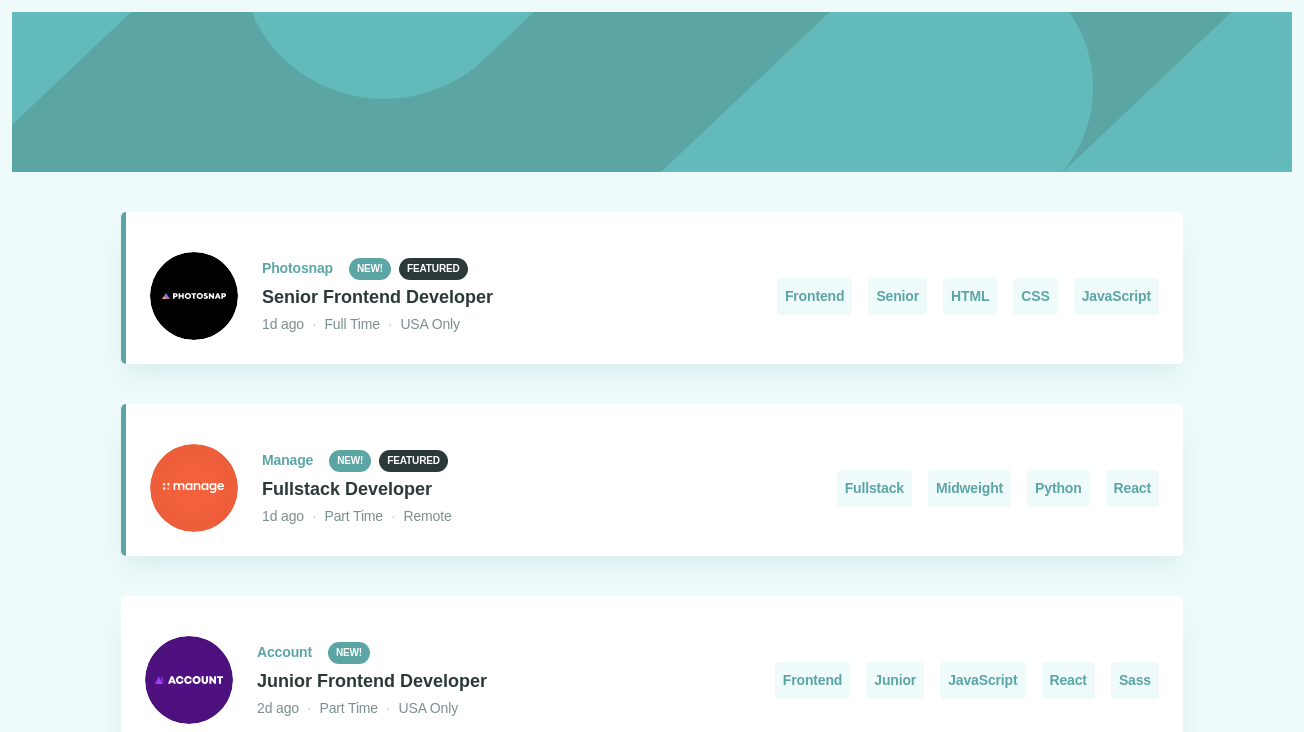
Test: Job Listings App › removes filter when clicking remove filter button in filter bar
The image size is (1304, 732).
Click the button "Python" at (1059, 489), box [1027,470,1090,507]
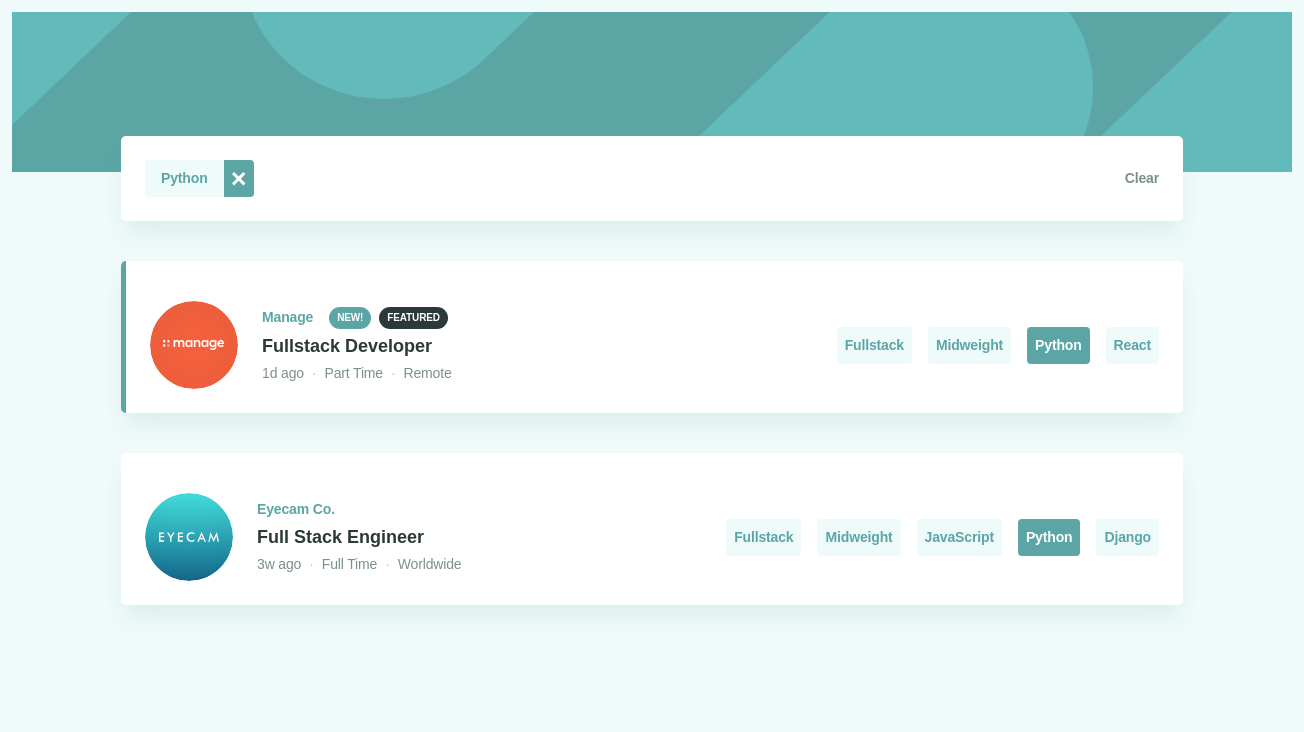
Expected: the button with test id "job-card" reads "Python", [1027,327,1090,364]
Click the button with test id "remove-filter" at (239, 179), box [224,160,254,197]
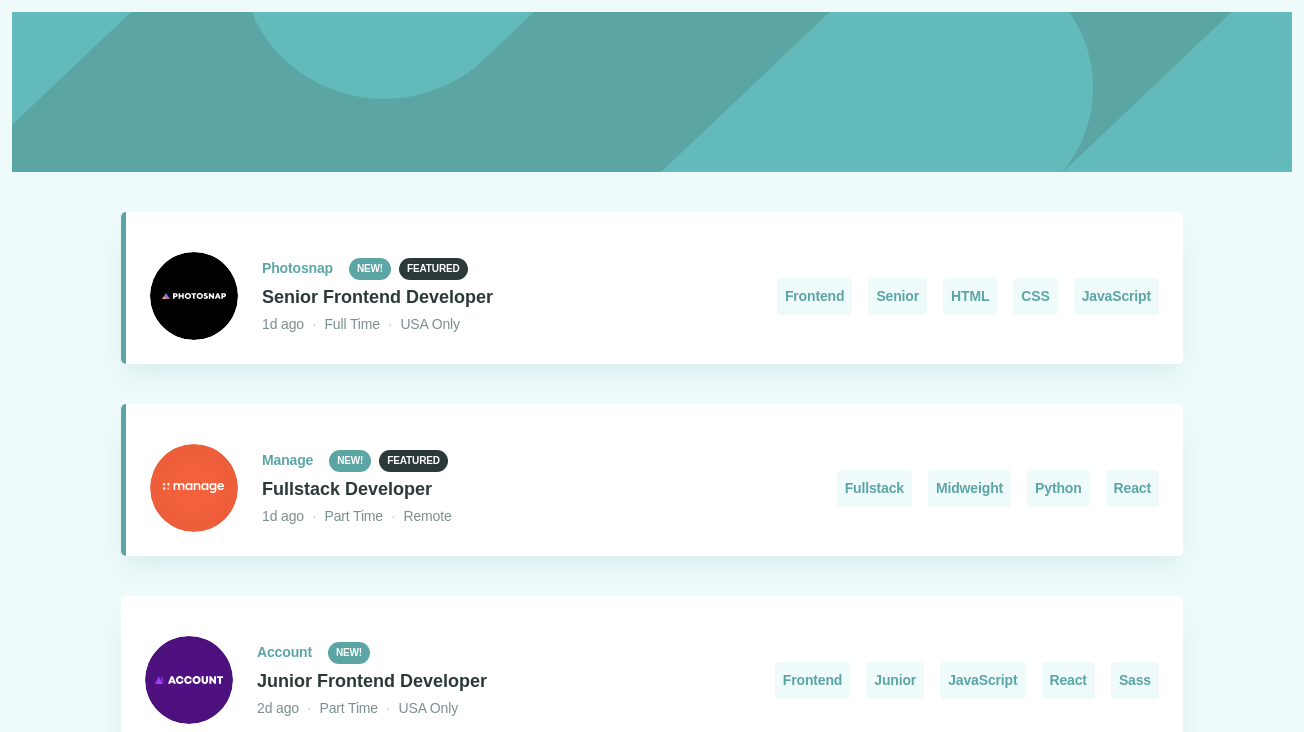
Expected: the number of elements with test id "job-card" is 10
